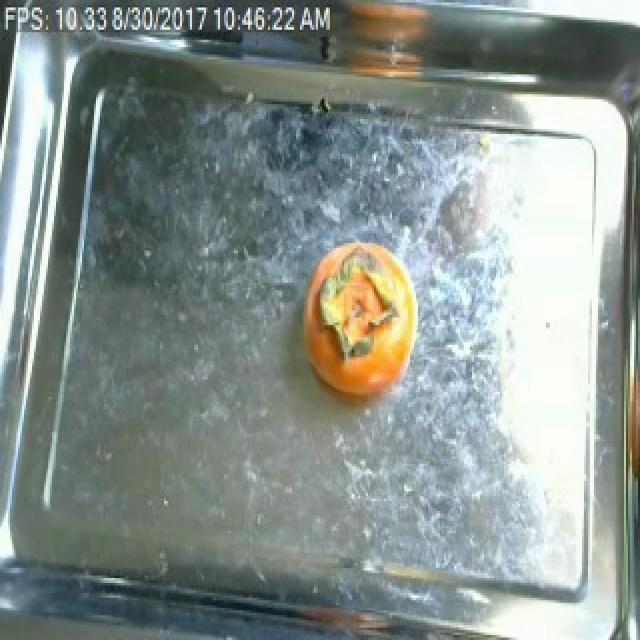Fruit: (300, 236, 414, 362), (346, 3, 436, 52)
